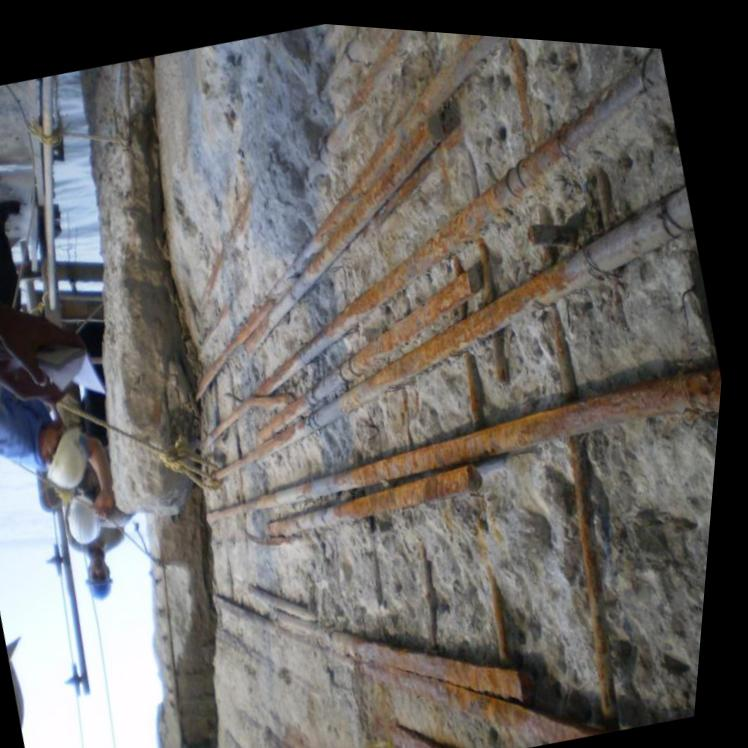damage: (168, 19, 727, 748)
